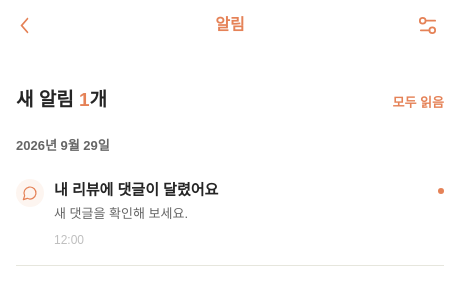
Test case: 알림함 › 알림을 읽고 배지를 갱신한 뒤 지원 Action으로 이동한다
The image size is (461, 283).
Expected: the heading "새 알림 1개" is shown, [16,88,107,111]
Click the button "내 리뷰에 댓글이 달렸어요 새 댓글을 확인해 보세요. 12:00": click(136, 190) [16,162,444,266]
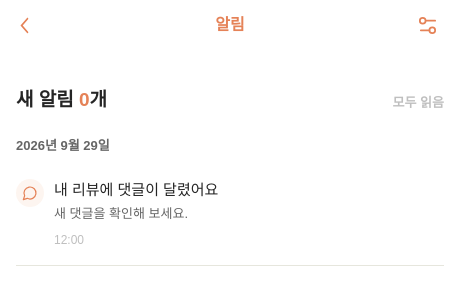
Now the text "0" is shown, box [79,89,90,110]
